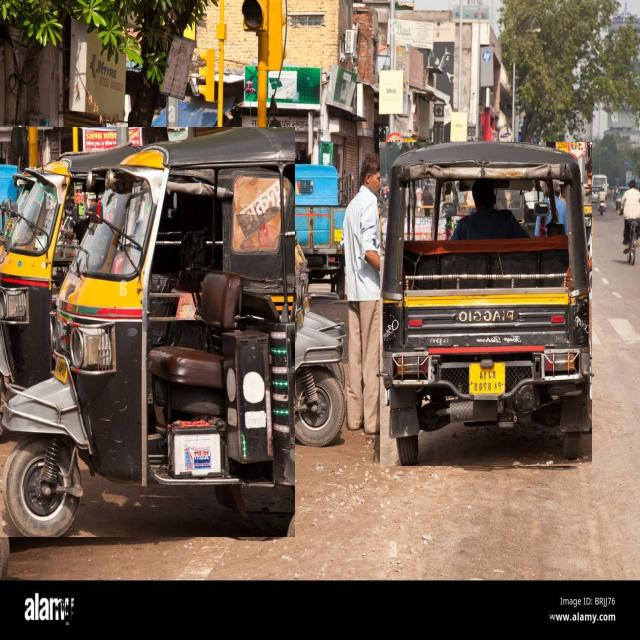autorickshaw: (0, 128, 295, 537), (380, 142, 592, 466), (163, 146, 345, 446)
